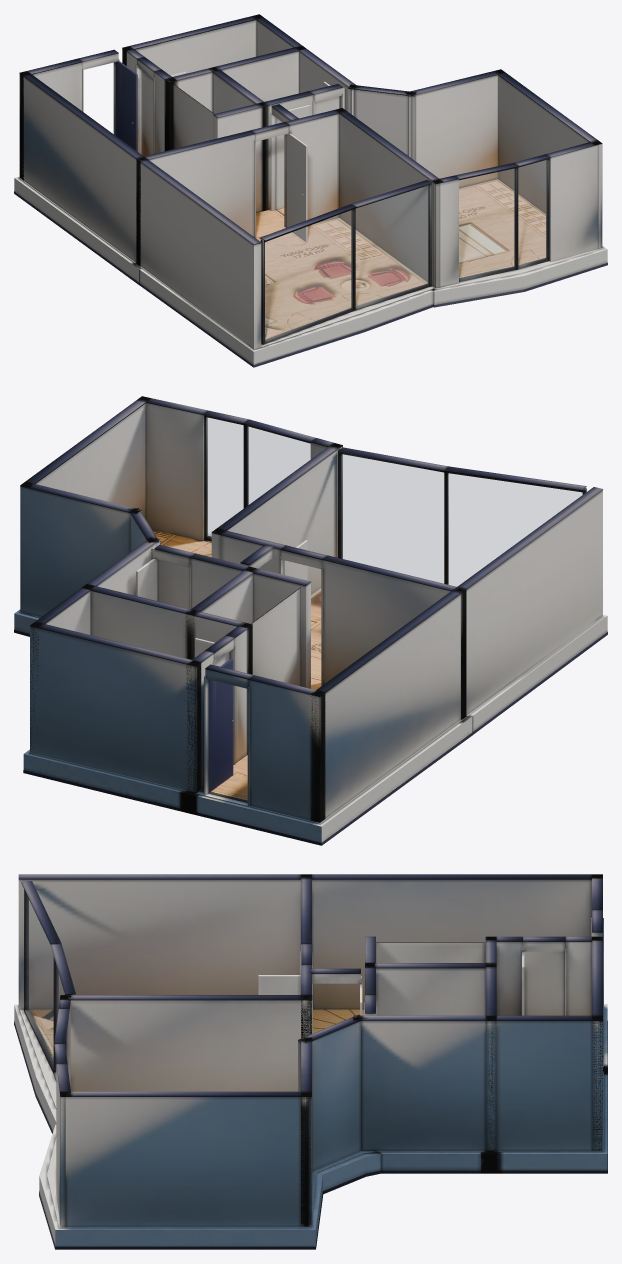
The picture shows the model from 3 angles, top to bottom: view 1: azimuth 30°, elevation 25°; view 2: azimuth 150°, elevation 25°; view 3: azimuth 270°, elevation 25°; orthographic projection. The views are drawn at different scales.
Parts seen in each view (by area): view 1: plan, glass0_m, glass1_m, glass2_m, glass3_m; view 2: plan, glass1_m, glass0_m, glass3_m, glass2_m; view 3: plan, glass0_m.
Boxes of the visible parts, x1,y1,x2,y2 form: plan: (14, 14, 607, 367); glass0_m: (265, 210, 352, 340); glass1_m: (356, 186, 428, 306); glass2_m: (459, 168, 514, 278); glass3_m: (518, 160, 546, 265); plan: (14, 396, 607, 845); glass1_m: (342, 454, 443, 583); glass0_m: (448, 473, 582, 586); glass3_m: (207, 417, 243, 536); glass2_m: (248, 426, 310, 504); plan: (14, 874, 607, 1249); glass0_m: (27, 896, 53, 1064).
Bounding box in the file's own units: 8.41 × 2.62 × 9.33.
2 materials, 1 textured.
